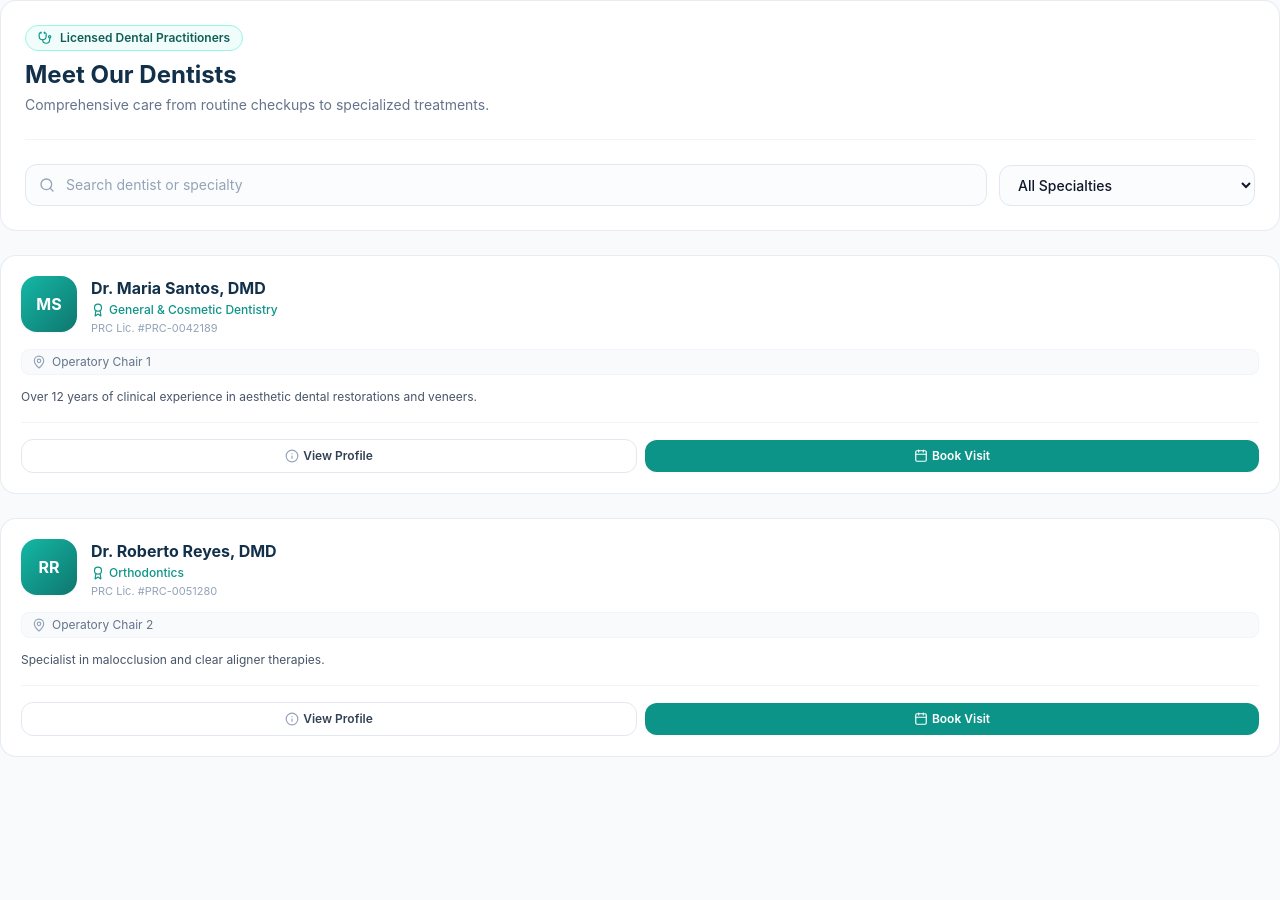
PatientDentistsPage Component › filters dentists by search query
Expected: the heading "Dr. Maria Santos, DMD" is shown, [91,278,266,298]
Type "Orthodontics" into the field with placeholder "Search dentist or specialty" at (506, 185), box [25,164,987,206]
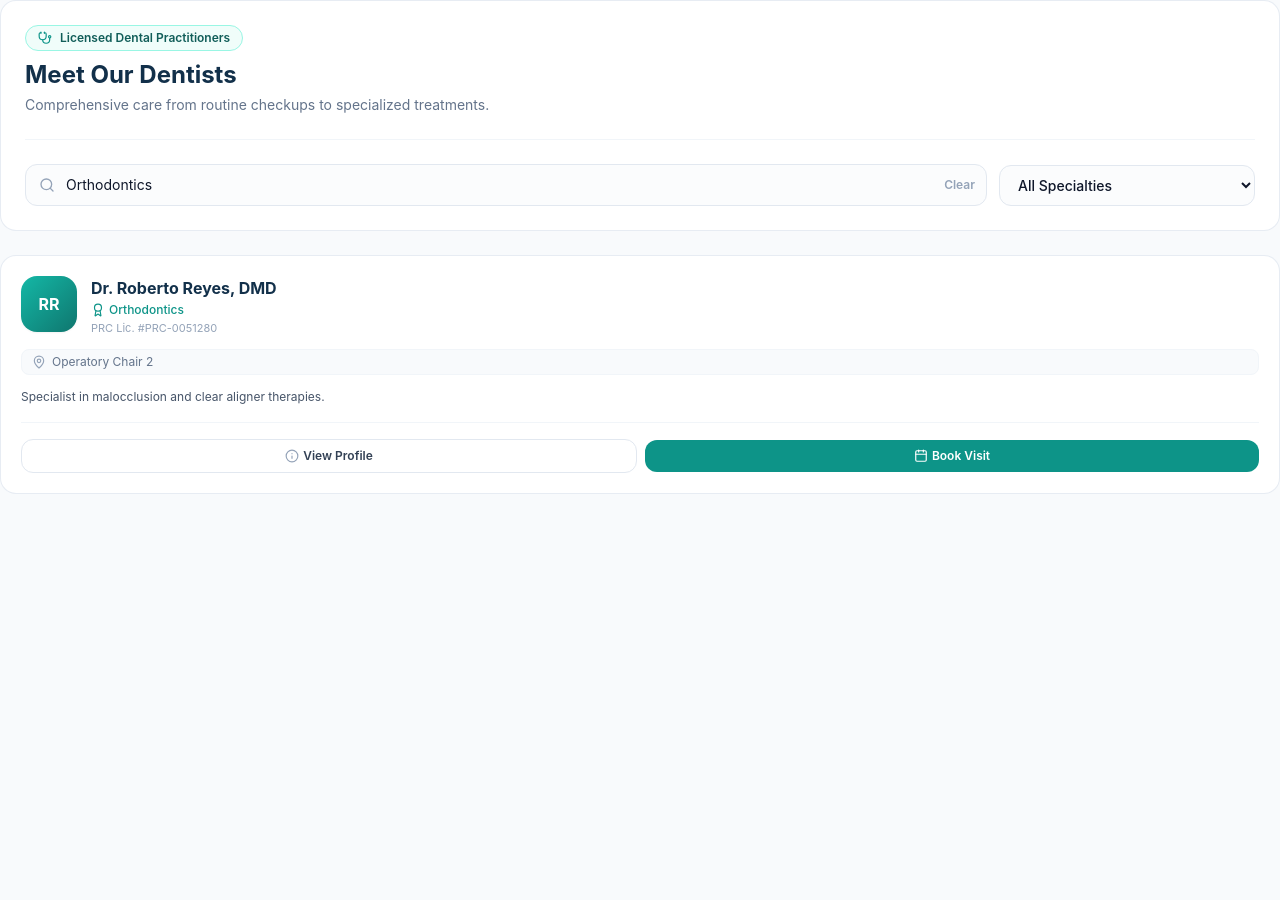
Expected: the heading "Dr. Roberto Reyes, DMD" is shown, [91,278,277,298]
Result: the heading "Dr. Maria Santos" is gone
